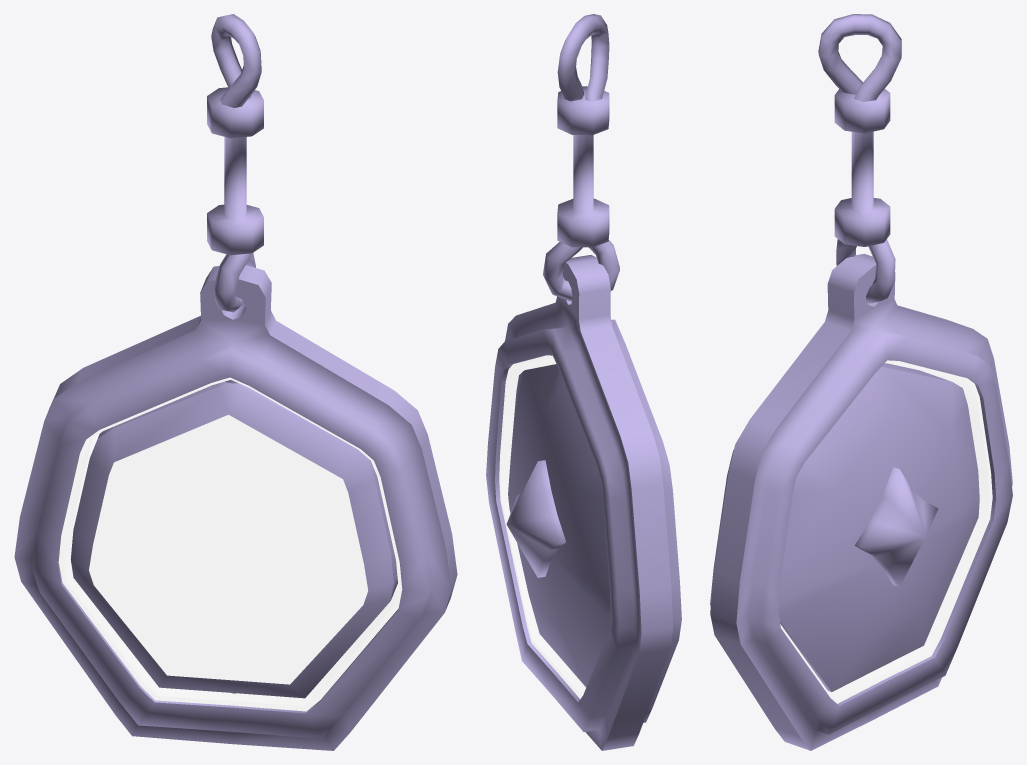
Rendered from diamond.glb.
3 renders of one model, left to right at view 1: azimuth 30°, elevation 25°; view 2: azimuth 150°, elevation 25°; view 3: azimuth 270°, elevation 25°, orthographic. The views are drawn at different scales.
Visible parts, largest first — view 1: GN_Buddies_RankEP8_Diamond_Skelmesh.mo.001; view 2: GN_Buddies_RankEP8_Diamond_Skelmesh.mo.001; view 3: GN_Buddies_RankEP8_Diamond_Skelmesh.mo.001.
Boxes of the visible parts, x1=… form: GN_Buddies_RankEP8_Diamond_Skelmesh.mo.001: x1=14, y1=14, x2=457, y2=750; GN_Buddies_RankEP8_Diamond_Skelmesh.mo.001: x1=486, y1=14, x2=681, y2=750; GN_Buddies_RankEP8_Diamond_Skelmesh.mo.001: x1=710, y1=14, x2=1012, y2=750.
Bounding box in the file's own units: 0.0225 × 0.0492 × 0.0193.
